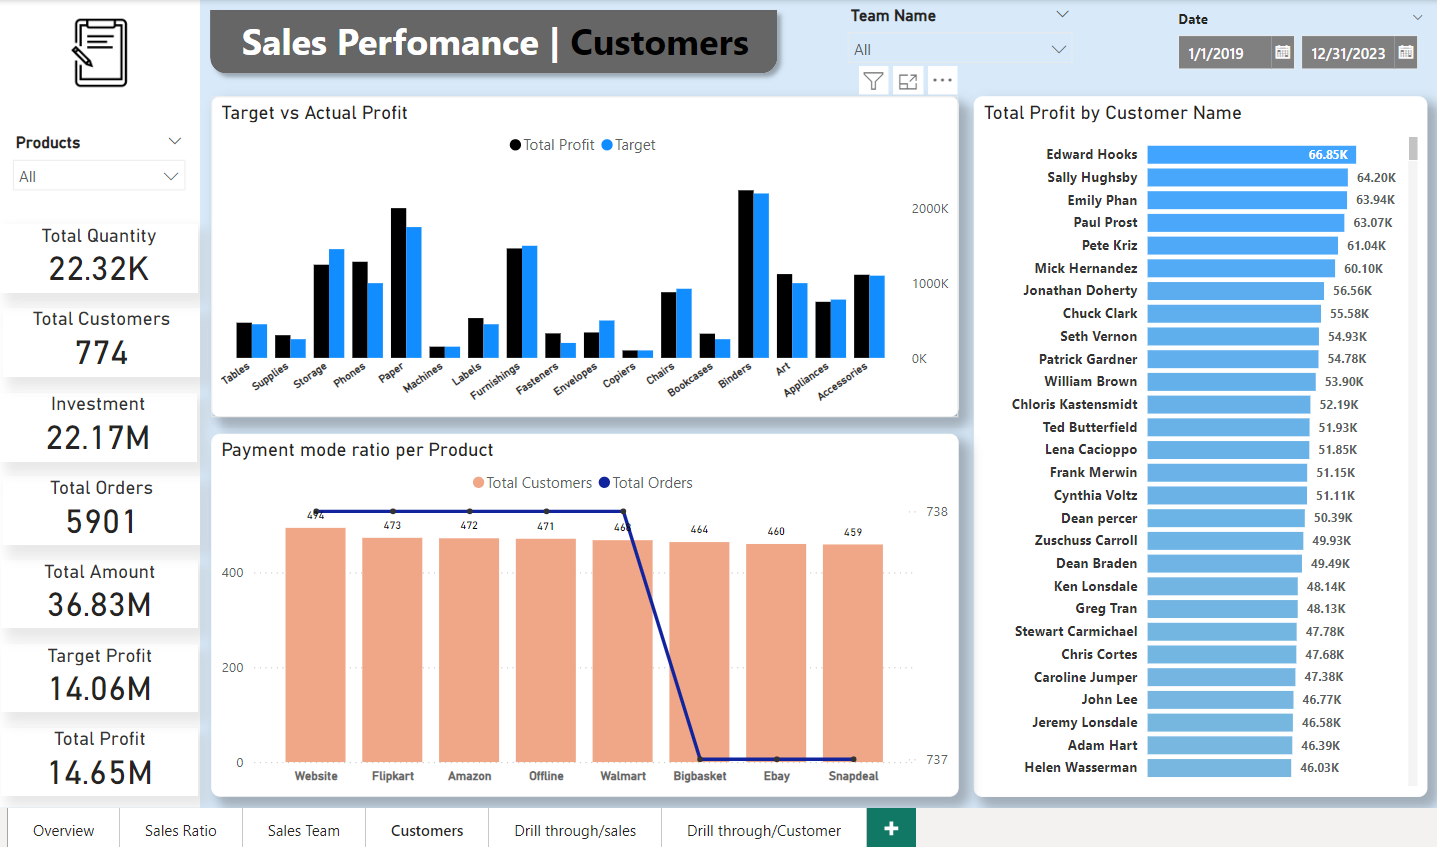

The page's visual inventory and layout, read from the dashboard file:
{"tool":"powerbi","page":{"name":"Customers","canvas":[1280,720],"ordinal":3},"visuals":[{"type":"shape","box":[178.1,0,523,74.3],"z":0},{"type":"shape","box":[0,0,178.1,719.4],"z":1000},{"type":"card","title":"Total Orders","fields":{"Values":["f-sales data.Total Orders"]},"box":[2.4,424,176.1,61.5],"z":2000},{"type":"card","title":"Total Customers","fields":{"Values":["f-sales data.Total Customers"]},"box":[2.4,274,176.1,61.5],"z":3000},{"type":"card","title":"Investment","fields":{"Values":["f-sales data.Company Cost"]},"box":[0,349,174.9,61.5],"z":4000},{"type":"card","title":"Total Amount","fields":{"Values":["f-sales data.Total Amount"]},"box":[1.4,499,175.3,61],"z":5000},{"type":"card","title":"Total Profit","fields":{"Values":["f-sales data.Total Proit"]},"box":[1.4,647.9,175.3,61],"z":6000},{"type":"card","title":"Target Profit","fields":{"Values":["Sum(d-target sale.Target Profit)"]},"box":[1.4,573.4,175.3,61],"z":7000},{"type":"slicer","fields":{"Values":["d-target sale.Products"]},"box":[1.2,113.4,173.7,63.9],"z":8000},{"type":"textbox","box":[209.9,9.7,479,54.3],"z":9000},{"type":"card","title":"Total Quantity","fields":{"Values":["Sum(f-sales data.Quantity)"]},"box":[0,199.1,176.1,61.5],"z":10000},{"type":"clusteredColumnChart","title":"Target vs Actual Profit","fields":{"Category":["d-target sale.Products"],"Y":["f-sales data.Total Profit","f-sales data.Target"]},"box":[188.2,85.7,666,285.9],"z":11000},{"type":"barChart","fields":{"Category":["f-sales data.Customer Name"],"Y":["f-sales data.Total Profit"]},"box":[867.4,85.7,404.2,623.7],"z":12000},{"type":"lineStackedColumnComboChart","title":"Payment mode ratio per Product","fields":{"Category":["f-sales data.Source"],"Y":["f-sales data.Total Customers"],"Y2":["f-sales data.Total Orders"]},"box":[188.2,386.1,666,323.3],"z":13000},{"type":"slicer","fields":{"Values":["d-sales team.Team Name"]},"box":[744.4,0,220.8,63.9],"z":14000},{"type":"slicer","title":"Pick Date","fields":{"Values":["f-sales data.Order Date"]},"box":[1036.3,3.6,243.7,74.8],"z":15000},{"type":"image","box":[44.6,0,88.1,95.3],"z":16000}]}

Visuals, with their boxes on the page's 1280x720 design canvas (x1, y1, x2, y2). These are canvas units, not pixel positions in the 1437x847 screenshot, which may show the page scaled, cropped or inside an application window:
shape: (178, 0, 701, 74)
shape: (0, 0, 178, 719)
"Total Orders" card: (2, 424, 178, 486)
"Total Customers" card: (2, 274, 178, 336)
"Investment" card: (0, 349, 175, 410)
"Total Amount" card: (1, 499, 177, 560)
"Total Profit" card: (1, 648, 177, 709)
"Target Profit" card: (1, 573, 177, 634)
slicer - d-target sale.Products: (1, 113, 175, 177)
textbox: (210, 10, 689, 64)
"Total Quantity" card: (0, 199, 176, 261)
"Target vs Actual Profit" clusteredColumnChart: (188, 86, 854, 372)
barChart - f-sales data.Customer Name x f-sales data.Total Profit: (867, 86, 1272, 709)
"Payment mode ratio per Product" lineStackedColumnComboChart: (188, 386, 854, 709)
slicer - d-sales team.Team Name: (744, 0, 965, 64)
"Pick Date" slicer: (1036, 4, 1280, 78)
image: (45, 0, 133, 95)
